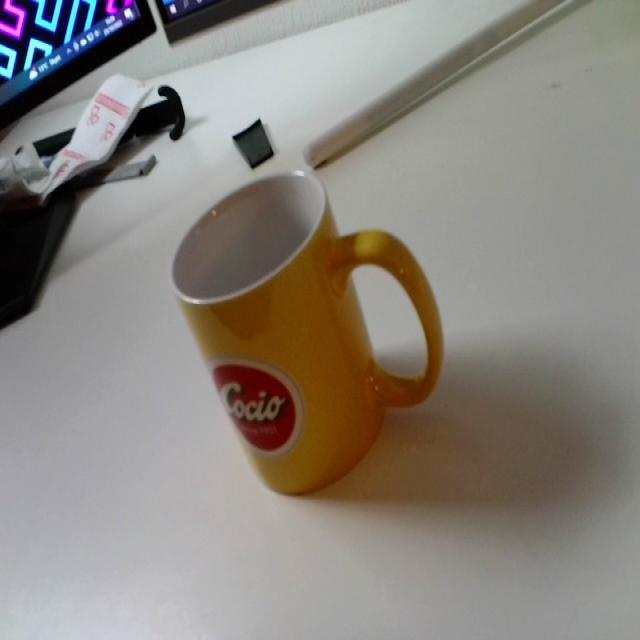cup: (162, 167, 450, 491)
